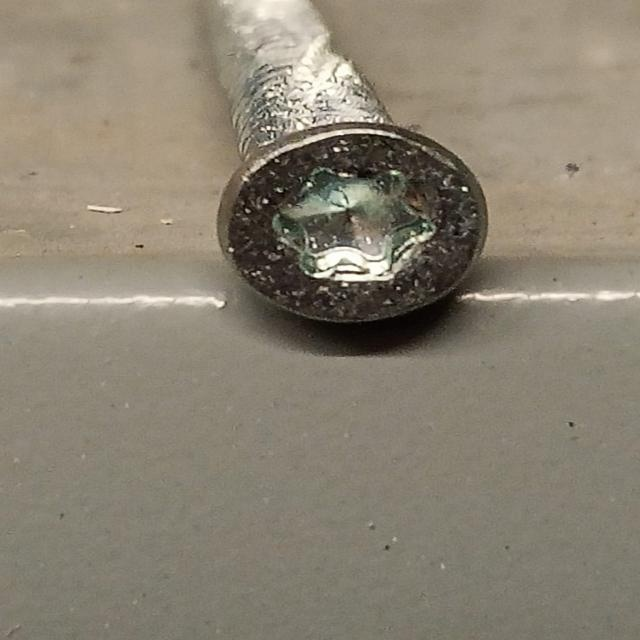torx: (215, 124, 489, 328)
